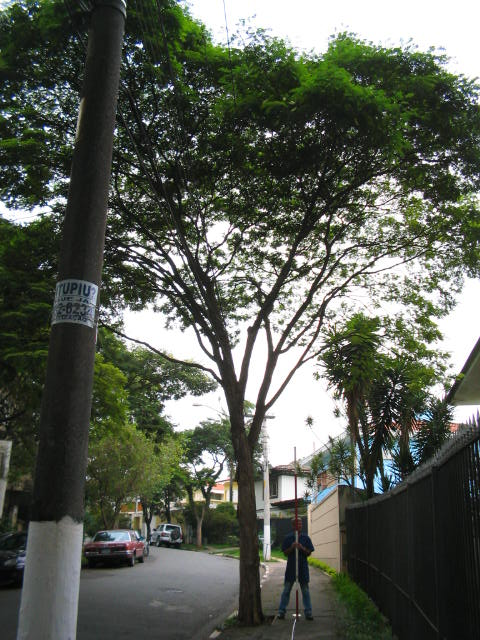crown: (7, 2, 479, 352)
stem: (224, 445, 272, 624)
stick: (289, 445, 302, 621)
tree: (4, 2, 479, 624)
